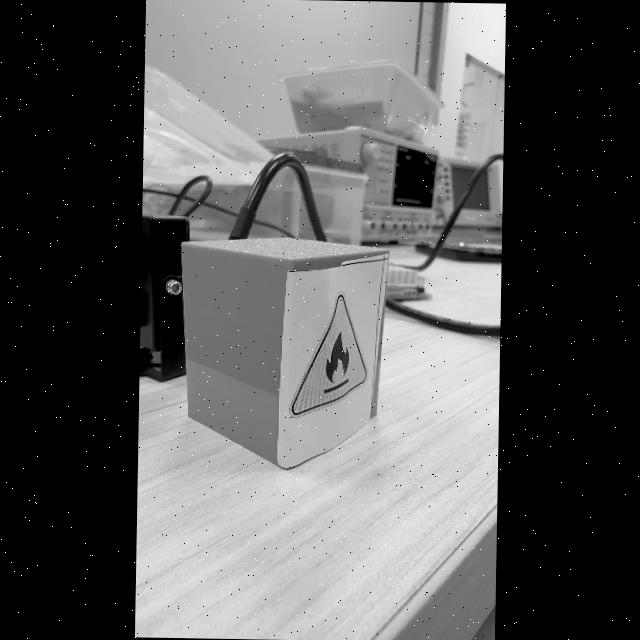Fire: (289, 294, 366, 416)
